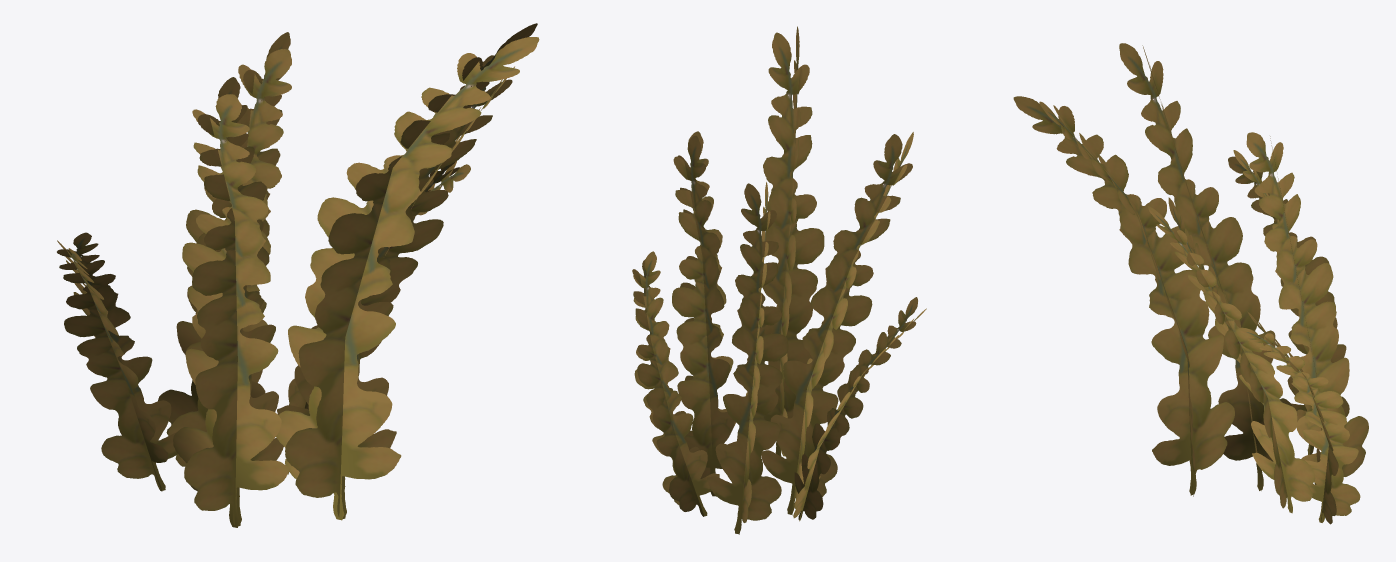
Rendered from Desert_plants_02.fbx.
The picture shows the model from 3 angles, left to right: view 1: azimuth 30°, elevation 25°; view 2: azimuth 150°, elevation 25°; view 3: azimuth 270°, elevation 25°; orthographic projection. The views are drawn at different scales.
Visible parts, largest first — view 1: Desert_plants_02; view 2: Desert_plants_02; view 3: Desert_plants_02.
Boxes of the visible parts, box(x1,y1,x2,y2) form: Desert_plants_02: box(57, 23, 539, 527); Desert_plants_02: box(632, 26, 926, 534); Desert_plants_02: box(1013, 43, 1368, 524).
Bounding box in the file's own units: 74.42 × 84.18 × 64.35.
